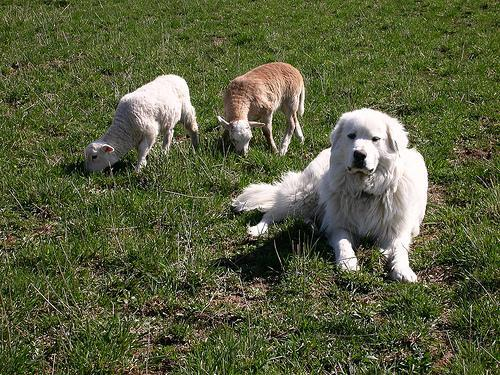Great_Pyrenees: (230, 108, 429, 287)
